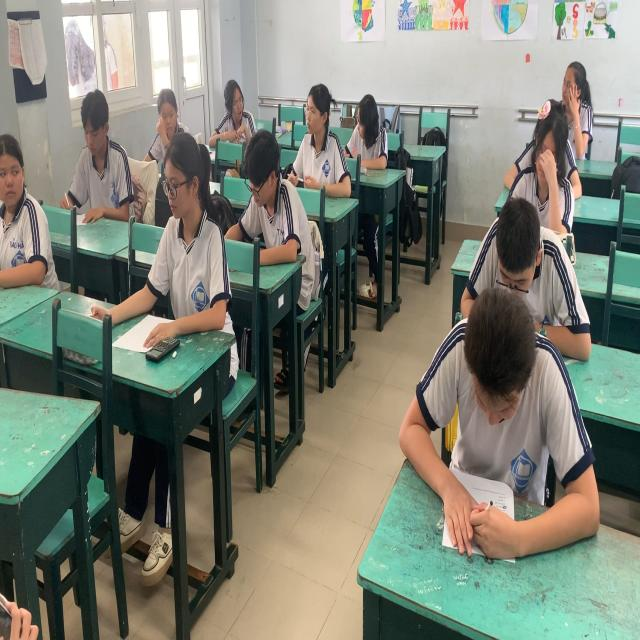cheating: (342, 81, 404, 174), (223, 77, 254, 146)
not_cheating: (404, 298, 608, 596), (149, 149, 227, 357), (62, 98, 137, 232), (0, 136, 50, 292), (229, 128, 291, 253), (524, 88, 570, 250), (295, 77, 349, 208), (484, 195, 542, 308), (559, 59, 600, 174), (142, 88, 188, 139)
